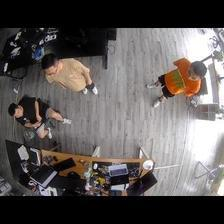normal: (145, 59, 206, 107), (8, 99, 73, 140), (42, 53, 100, 96)
